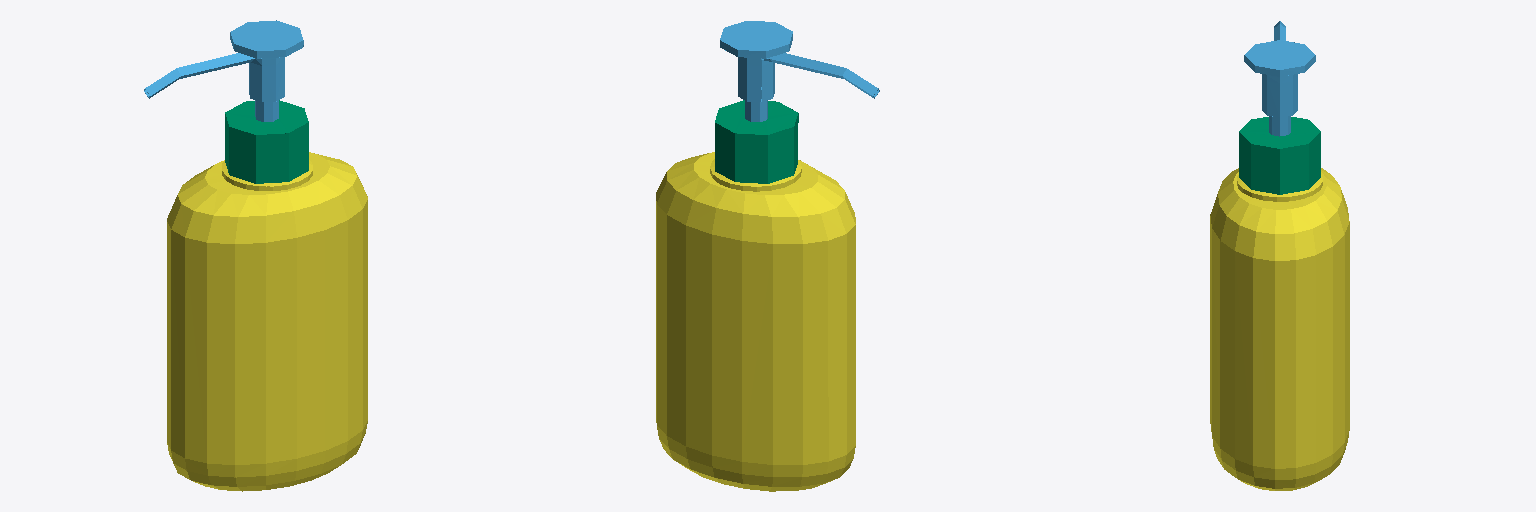
The robot description file, URDF, robot "partnet_daab8d5b-b371-404b-b11b-94564de1e0de":
<?xml version="1.0" ?>
<robot name="partnet_daab8d5b-b371-404b-b11b-94564de1e0de">
	<link name="base"/>
	<link name="link_0">
		<visual name="pressing_lid-1">
			<origin xyz="-0.004700500000000003 0 -0.00026694471682328635"/>
			<geometry>
				<mesh filename="textured_objs/original_3.obj"/>
			</geometry>
		</visual>
		<collision>
			<origin xyz="-0.004700500000000003 0 -0.00026694471682328635"/>
			<geometry>
				<mesh filename="textured_objs/original_3.obj"/>
			</geometry>
		</collision>
	</link>
	<joint name="joint_0" type="continuous">
		<origin xyz="0.0 0 0.0"/>
		<axis xyz="0 1 0"/>
		<child link="link_0"/>
		<parent link="link_0_helper"/>
	</joint>
	<link name="link_1">
		<visual name="head-3">
			<origin xyz="-0.0046615 0 0.002041000000000015"/>
			<geometry>
				<mesh filename="textured_objs/original_2.obj"/>
			</geometry>
		</visual>
		<collision>
			<origin xyz="-0.0046615 0 0.002041000000000015"/>
			<geometry>
				<mesh filename="textured_objs/original_2.obj"/>
			</geometry>
		</collision>
	</link>
	<joint name="joint_1" type="continuous">
		<origin xyz="0.0 0 0.0"/>
		<axis xyz="0 -1 0"/>
		<child link="link_1"/>
		<parent link="link_1_helper"/>
	</joint>
	<link name="link_2">
		<visual name="base_body-4">
			<origin xyz="0 0 0"/>
			<geometry>
				<mesh filename="textured_objs/original_1.obj"/>
			</geometry>
		</visual>
		<collision>
			<origin xyz="0 0 0"/>
			<geometry>
				<mesh filename="textured_objs/original_1.obj"/>
			</geometry>
		</collision>
	</link>
	<joint name="joint_2" type="fixed">
		<origin rpy="1.570796326794897 0 -1.570796326794897" xyz="0 0 0"/>
		<child link="link_2"/>
		<parent link="base"/>
	</joint>
	<link name="link_0_helper">
		<inertial>
			<origin xyz="0 0 0"/>
			<mass value="1e-6"/>
			<inertia ixx="1e-10" ixy="0" ixz="0" iyy="1e-10" iyz="0" izz="1e-10"/>
		</inertial>
	</link>
	<joint name="joint_3" type="prismatic">
		<origin xyz="3.900000000000344e-05 0 0.0023079447168233014"/>
		<axis xyz="0 -1 0"/>
		<child link="link_0_helper"/>
		<parent link="link_1"/>
		<limit lower="0" upper="0.08"/>
	</joint>
	<link name="link_1_helper">
		<inertial>
			<origin xyz="0 0 0"/>
			<mass value="1e-6"/>
			<inertia ixx="1e-10" ixy="0" ixz="0" iyy="1e-10" iyz="0" izz="1e-10"/>
		</inertial>
	</link>
	<joint name="joint_4" type="prismatic">
		<origin xyz="0.0046615 0 -0.002041000000000015"/>
		<axis xyz="0 1 0"/>
		<child link="link_1_helper"/>
		<parent link="link_2"/>
		<limit lower="0" upper="0.1"/>
	</joint>
</robot>

--- Render facts (derived) ---
The picture shows the robot from 3 angles, left to right: view 1: azimuth 30°, elevation 25°; view 2: azimuth 150°, elevation 25°; view 3: azimuth 270°, elevation 25°; orthographic projection.
Robot: partnet_daab8d5b-b371-404b-b11b-94564de1e0de — 6 links, 5 joints (2 continuous, 2 prismatic, 1 fixed); root link base; default pose: every joint at zero.
Links seen in each view (by area): view 1: link_2, link_1, link_0; view 2: link_2, link_1, link_0; view 3: link_2, link_1, link_0.
Link boxes in pixels (<box>): link_2: <box>167,152,367,491</box>; link_1: <box>225,100,308,183</box>; link_0: <box>144,20,303,121</box>; link_2: <box>656,152,855,491</box>; link_1: <box>715,100,798,183</box>; link_0: <box>720,21,879,121</box>; link_2: <box>1210,168,1349,490</box>; link_1: <box>1239,117,1320,194</box>; link_0: <box>1244,21,1315,136</box>.
Size in the robot's own frame: 0.8662 by 0.5138 by 1.65 metres.
3 mesh visuals loaded from 3 distinct referenced files (3 OBJ).
